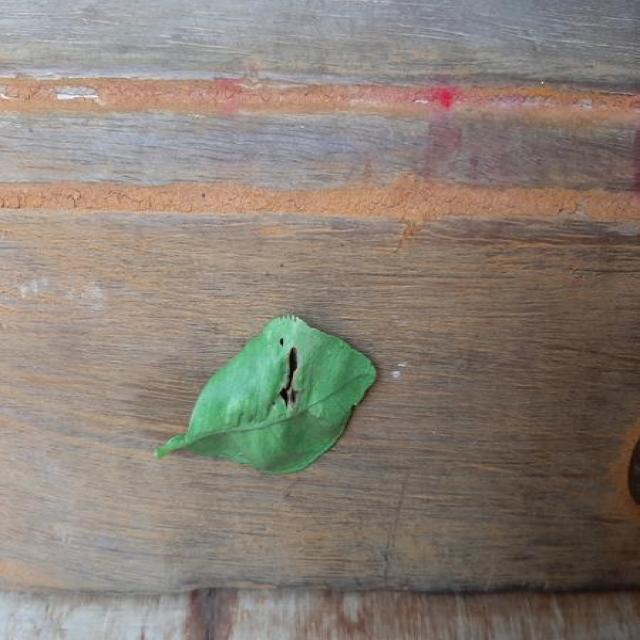lemon: (178, 318, 377, 444)
